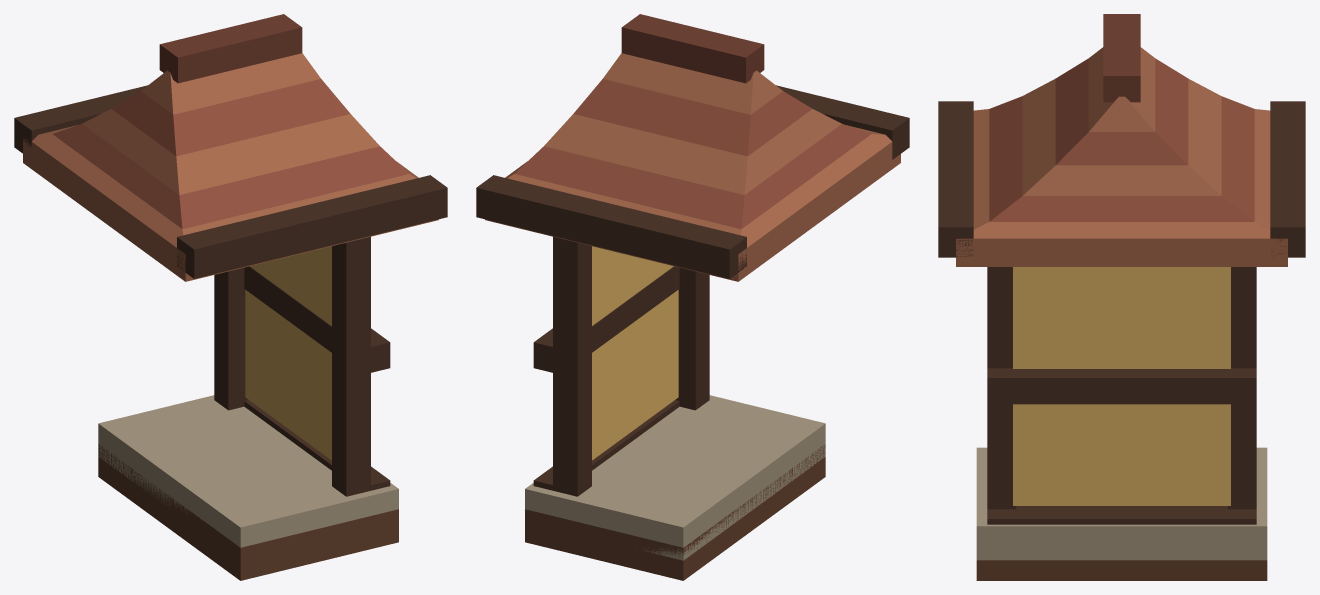
Rendered from Oriel__Box.fbx.
3 renders of one model, left to right at view 1: azimuth 30°, elevation 25°; view 2: azimuth 150°, elevation 25°; view 3: azimuth 270°, elevation 25°, orthographic. The views are drawn at different scales.
Parts seen in each view (by area): view 1: Oriel__Box; view 2: Oriel__Box; view 3: Oriel__Box.
Boxes of the visible parts, <box> form: Oriel__Box: <box>14,14,447,580</box>; Oriel__Box: <box>476,14,909,580</box>; Oriel__Box: <box>938,14,1305,580</box>.
Size of the model in its own units: 144 by 260 by 177.
Materials: 1 (1 with a texture image).
